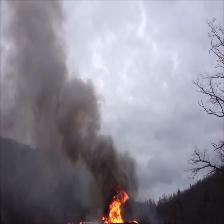fire: (108, 197, 124, 222)
smoke: (17, 7, 64, 114), (66, 91, 93, 158), (99, 144, 125, 193)
